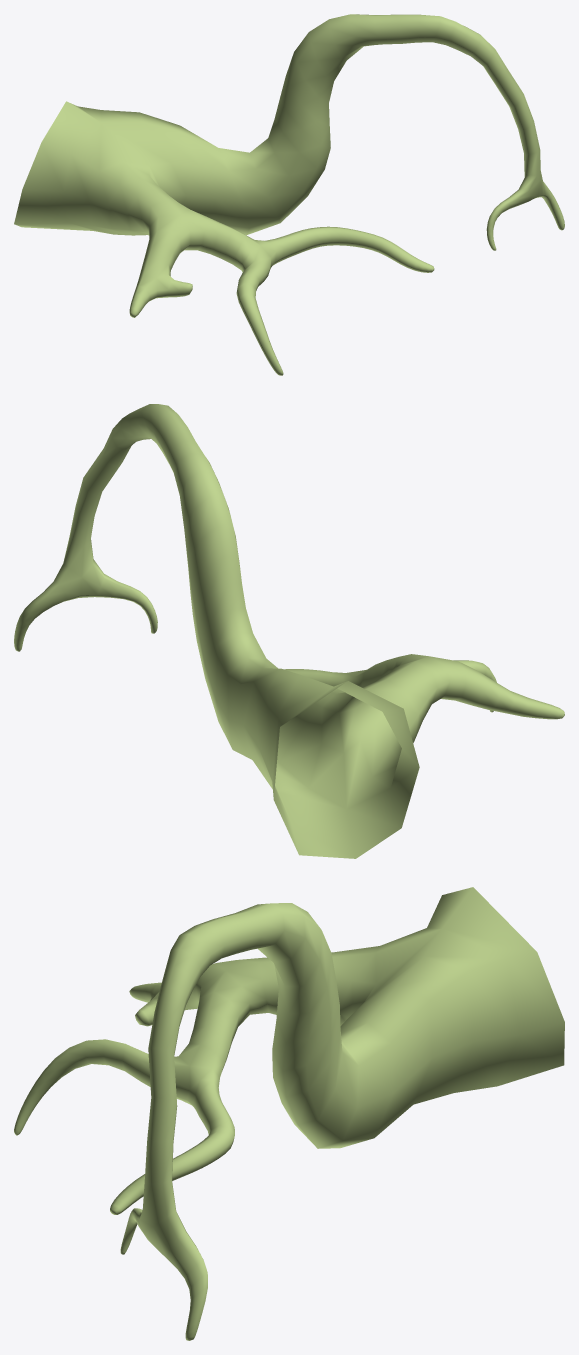
The model's file is Big tree branches_02.fbx.
3 views of the same model, one above another, from view 1: azimuth 30°, elevation 25°; view 2: azimuth 150°, elevation 25°; view 3: azimuth 270°, elevation 25° (orthographic). The views are drawn at different scales.
Visible parts, largest first — view 1: polySurface591; view 2: polySurface591; view 3: polySurface591.
Part boxes in pixels (left/top/right/bottom): polySurface591: left=14, top=14, right=564, bottom=375; polySurface591: left=14, top=404, right=564, bottom=858; polySurface591: left=14, top=887, right=564, bottom=1340.
Size of the model in its own units: 121 by 65.95 by 94.58.
